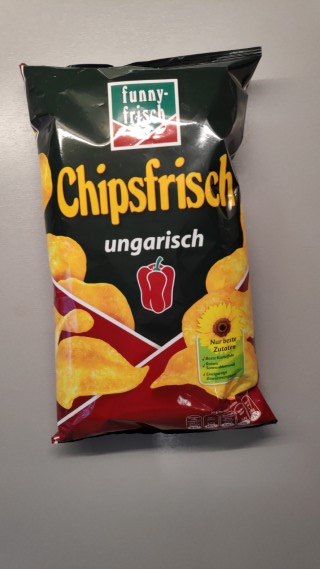chipsfrisch: (17, 41, 281, 445)
